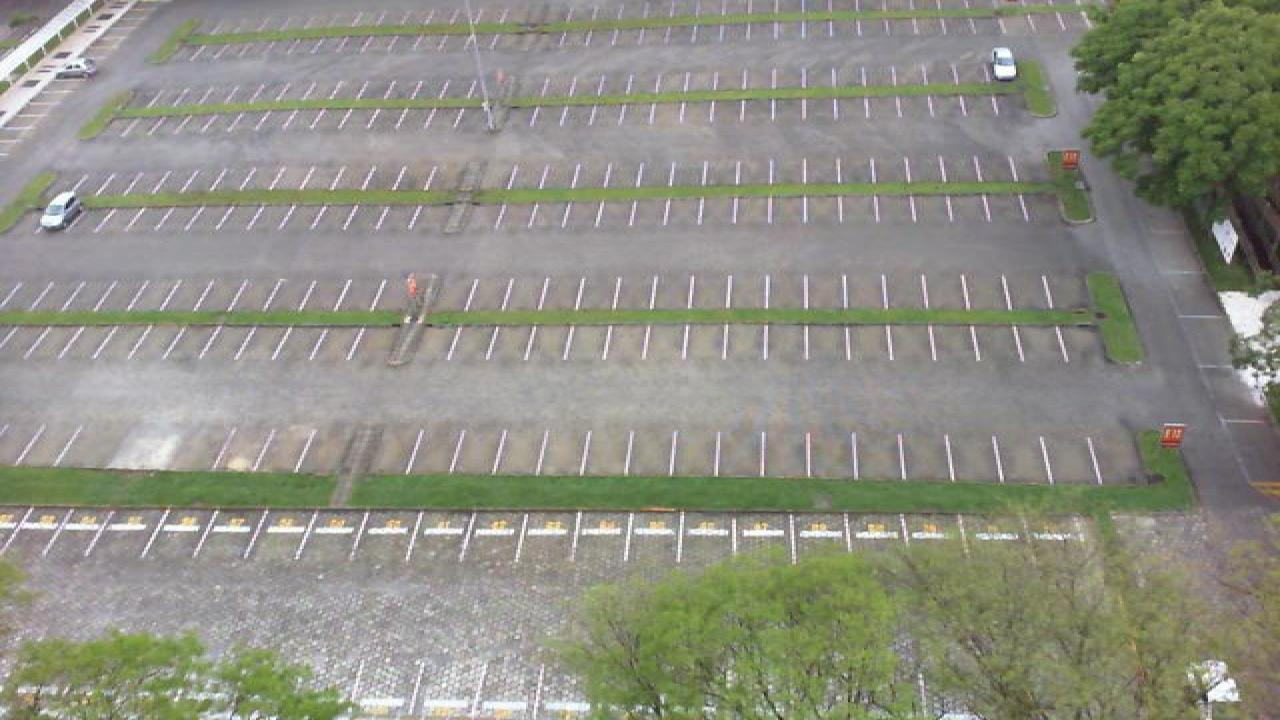Car: (38, 189, 82, 231), (990, 47, 1020, 81), (56, 56, 92, 78)
